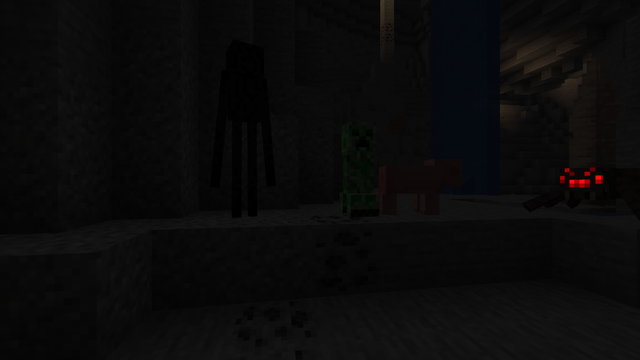araignees: (526, 159, 631, 223)
cochons: (386, 163, 445, 216)
creepers: (338, 116, 380, 216)
endermens: (222, 33, 263, 219)
